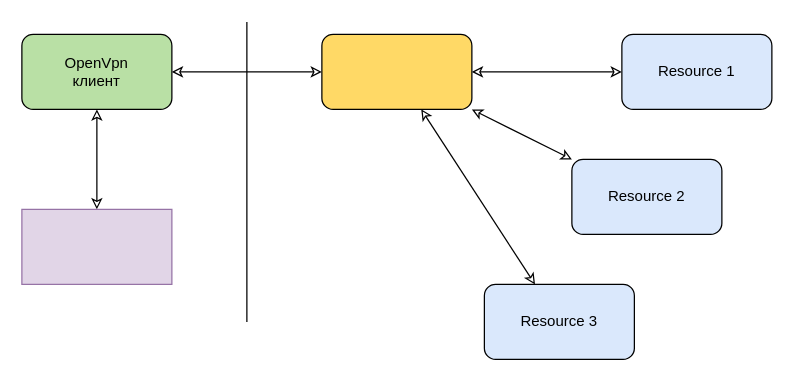
This 794x381 diagram has some shape labels left out. The box of each missing label's shape, as (x1, y1, x2, y2) in pixels:
Computer with limited rights: (21, 208, 172, 284)
OpenVpn сервер: (321, 33, 472, 109)
